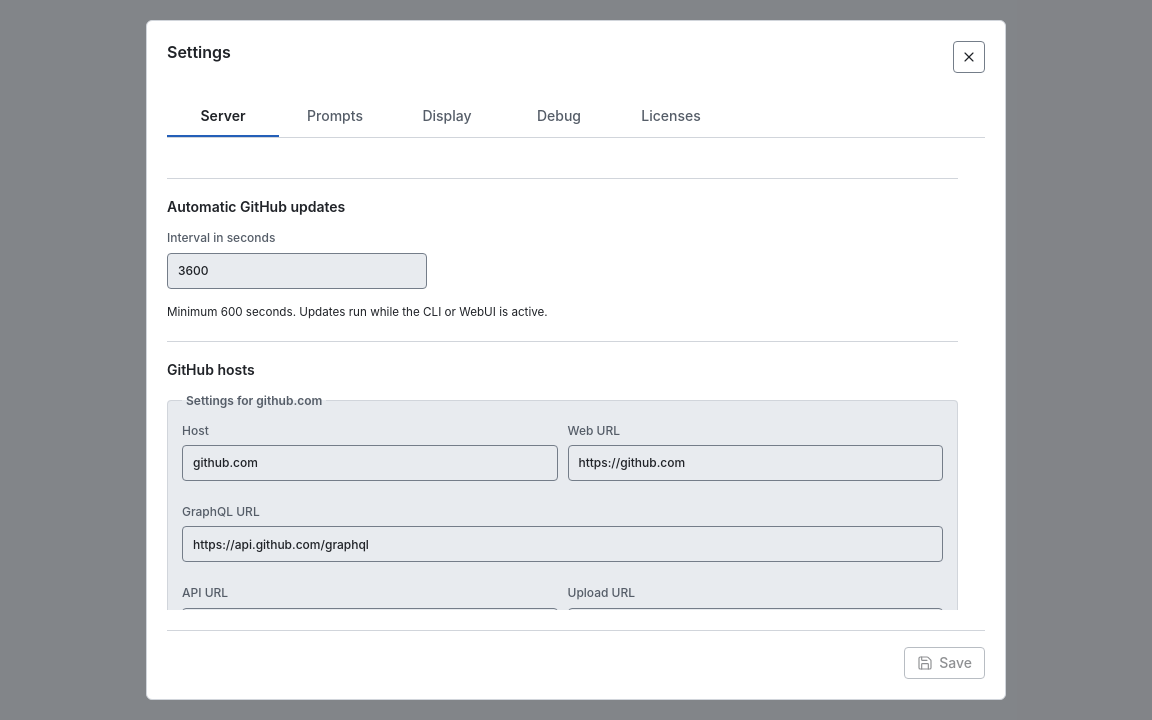
it: SettingsDialog › routes Escape through the same close path
Replace the text in the number field labelled "Interval in seconds" with "1200" at (297, 271), box x1=167 y1=253 x2=427 y2=289
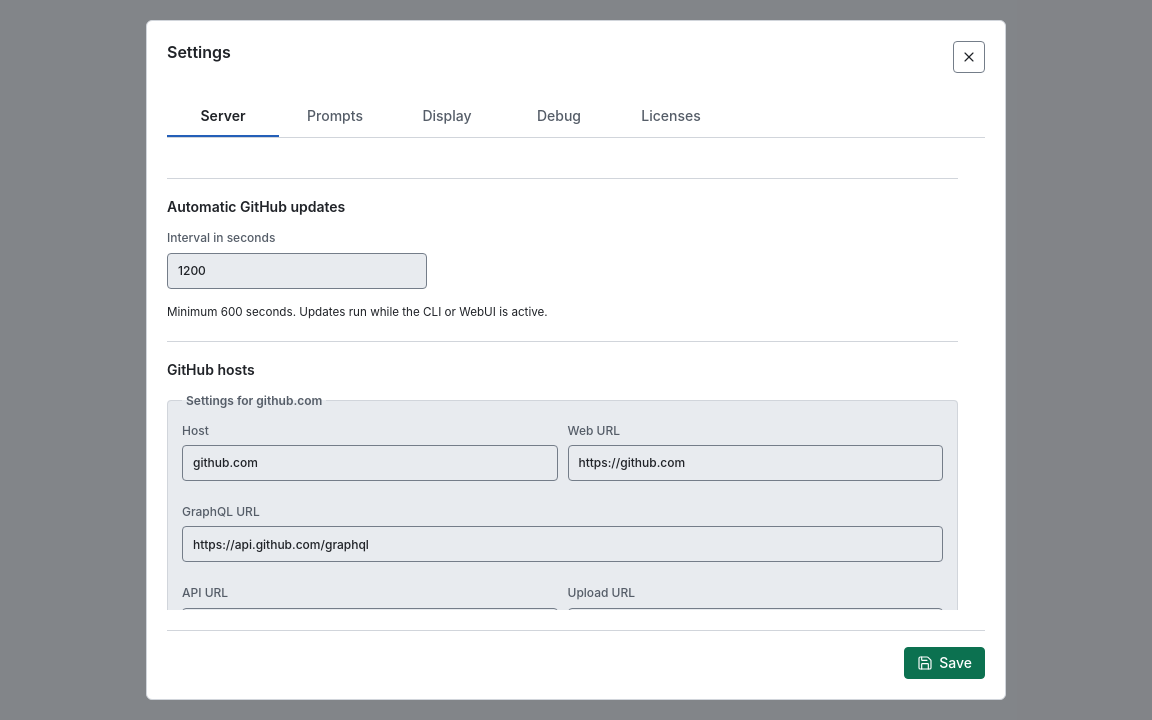
Press Escape
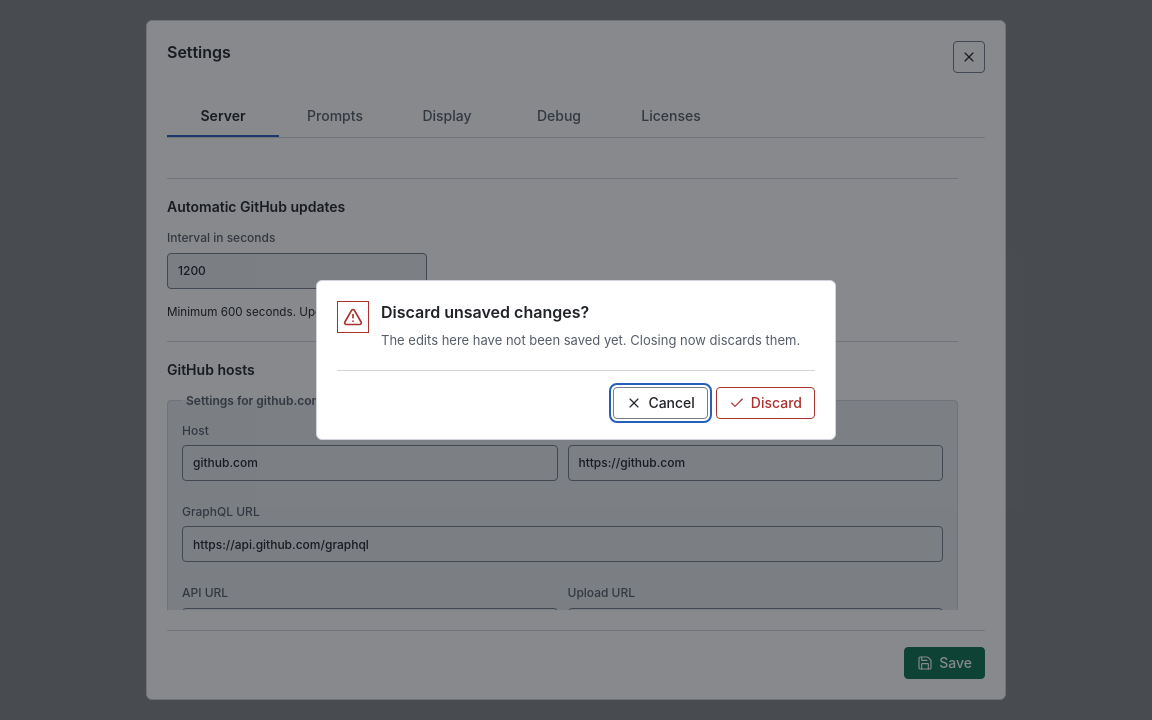
Press Escape in the dialog "Discard unsaved changes?", box x1=316 y1=280 x2=836 y2=440
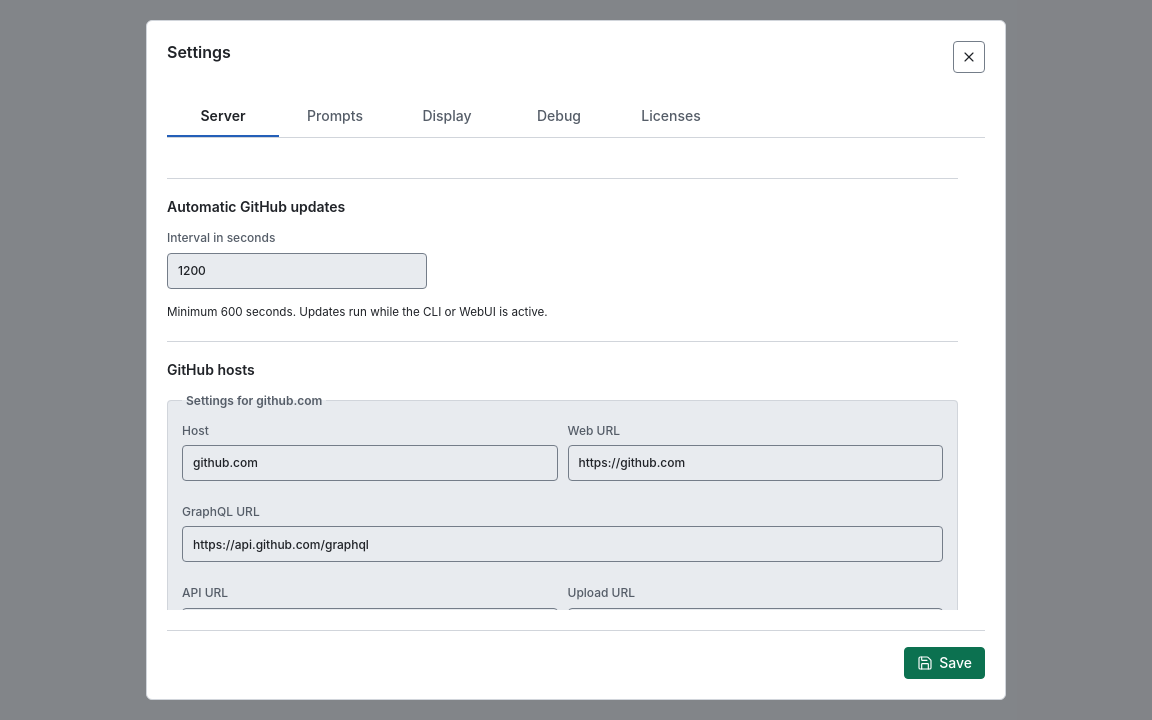
Check: the heading "Discard unsaved changes?" is gone
